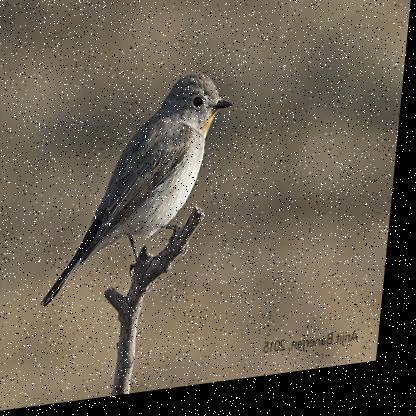Burung: (45, 73, 240, 311)
